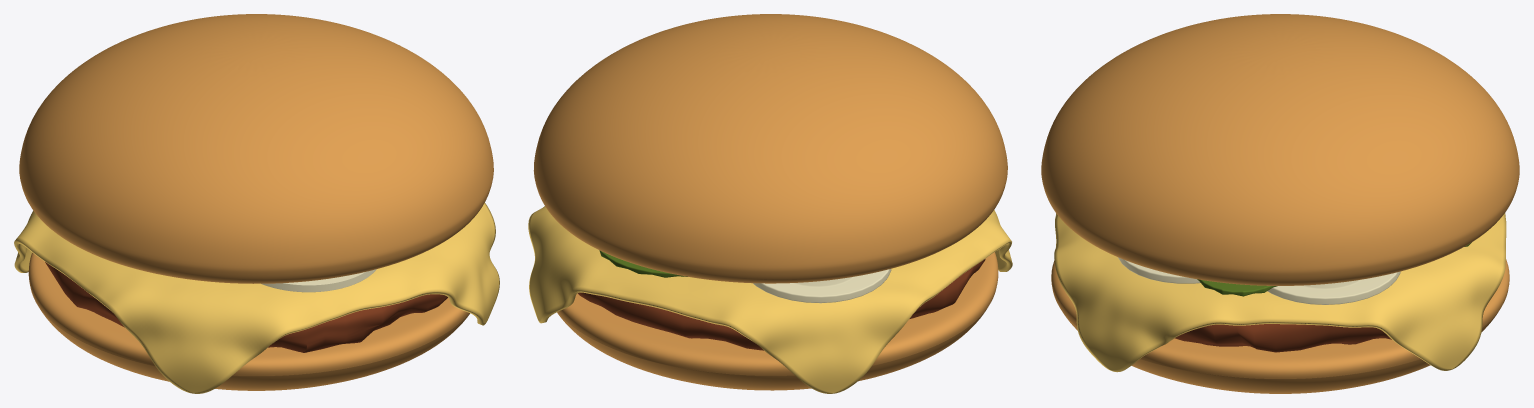
The model's file is burguer.gltf.
3 renders of one model, left to right at view 1: azimuth 30°, elevation 25°; view 2: azimuth 150°, elevation 25°; view 3: azimuth 270°, elevation 25°, orthographic.
Visible parts, largest first — view 1: toip bun, Plane.001, bottom bun, patty, onion.004; view 2: toip bun, Plane.001, bottom bun, patty, onion.002, pickle; view 3: toip bun, Plane.001, bottom bun, patty, onion.001, onion.003, pickle.001.
Part boxes in pixels (left/top/right/bottom): toip bun: left=19, top=14, right=493, bottom=283; Plane.001: left=14, top=202, right=499, bottom=393; bottom bun: left=28, top=252, right=469, bottom=390; patty: left=45, top=262, right=447, bottom=352; onion.004: left=261, top=269, right=376, bottom=292; toip bun: left=533, top=14, right=1007, bottom=283; Plane.001: left=528, top=206, right=1012, bottom=393; bottom bun: left=557, top=252, right=998, bottom=390; patty: left=578, top=259, right=985, bottom=350; onion.002: left=753, top=269, right=891, bottom=303; pickle: left=599, top=250, right=687, bottom=277; toip bun: left=1041, top=14, right=1519, bottom=285; Plane.001: left=1054, top=213, right=1506, bottom=372; bottom bun: left=1051, top=259, right=1509, bottom=393; patty: left=1175, top=324, right=1391, bottom=352; onion.001: left=1267, top=271, right=1400, bottom=304; onion.003: left=1118, top=257, right=1200, bottom=283; pickle.001: left=1197, top=279, right=1277, bottom=296.
Bounding box in the file's own units: 1.98 × 1.37 × 1.98.
